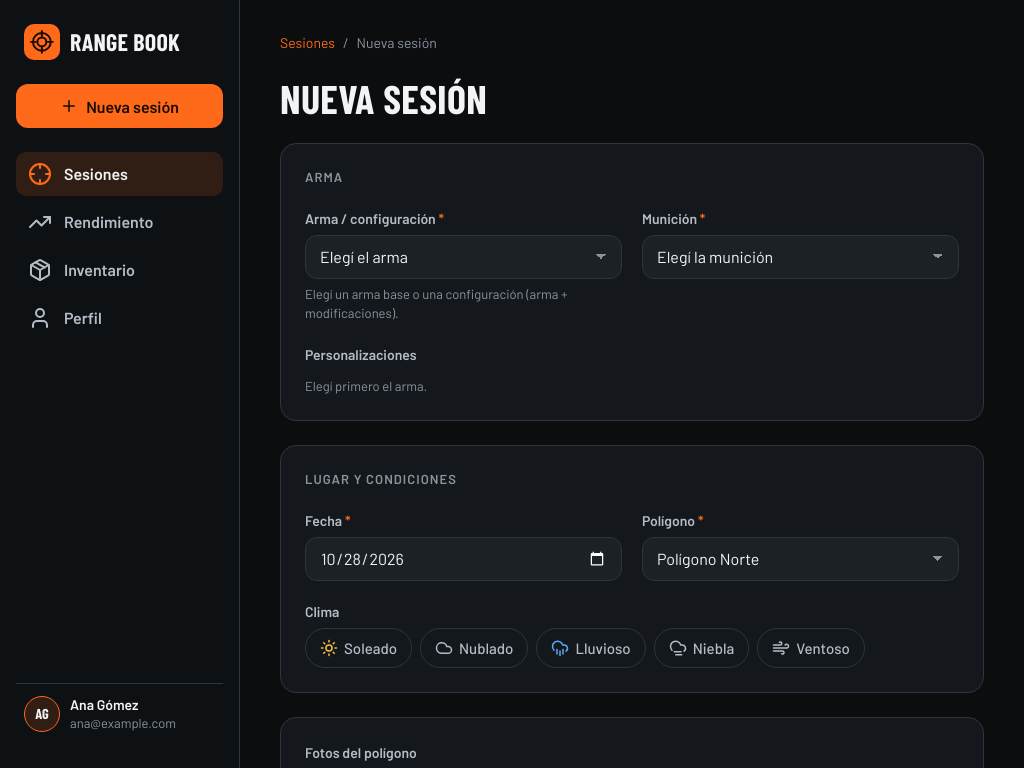
Scenario: SessionFormScreen · nueva › precarga hoy y el último polígono; la munición, la última usada con el arma
This screenshot has width=1024, height=768.
Expected: the date field labelled "Fecha *" holds "2026-10-28", x1=305 y1=536 x2=622 y2=580
Expected: the dropdown labelled "Polígono *" shows "Polígono Norte", x1=642 y1=536 x2=959 y2=580
Select "Ruger 10/22 · Stock" in the dropdown labelled "Arma / configuración *" at point(464, 256), box x1=305 y1=234 x2=622 y2=278
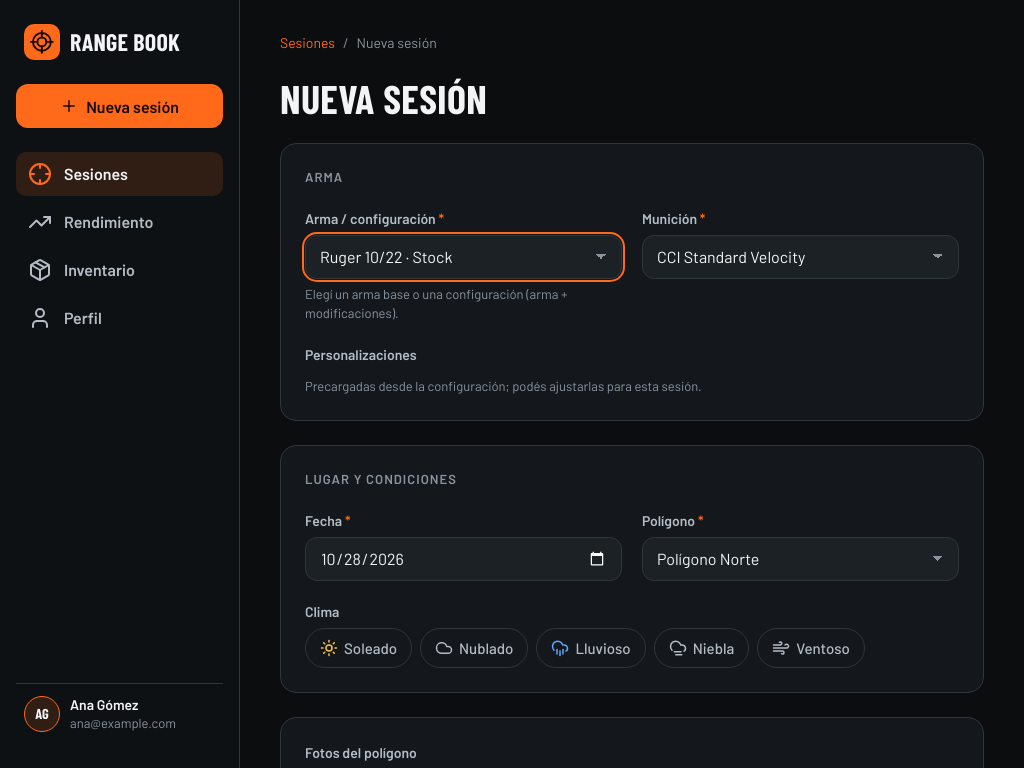
Result: the dropdown labelled "Munición *" shows "CCI Standard Velocity" at x1=642 y1=234 x2=959 y2=278
Select "Glock 17 Gen5 · Config. IPSC" in the dropdown labelled "Arma / configuración *" at point(464, 256), box x1=305 y1=234 x2=622 y2=278
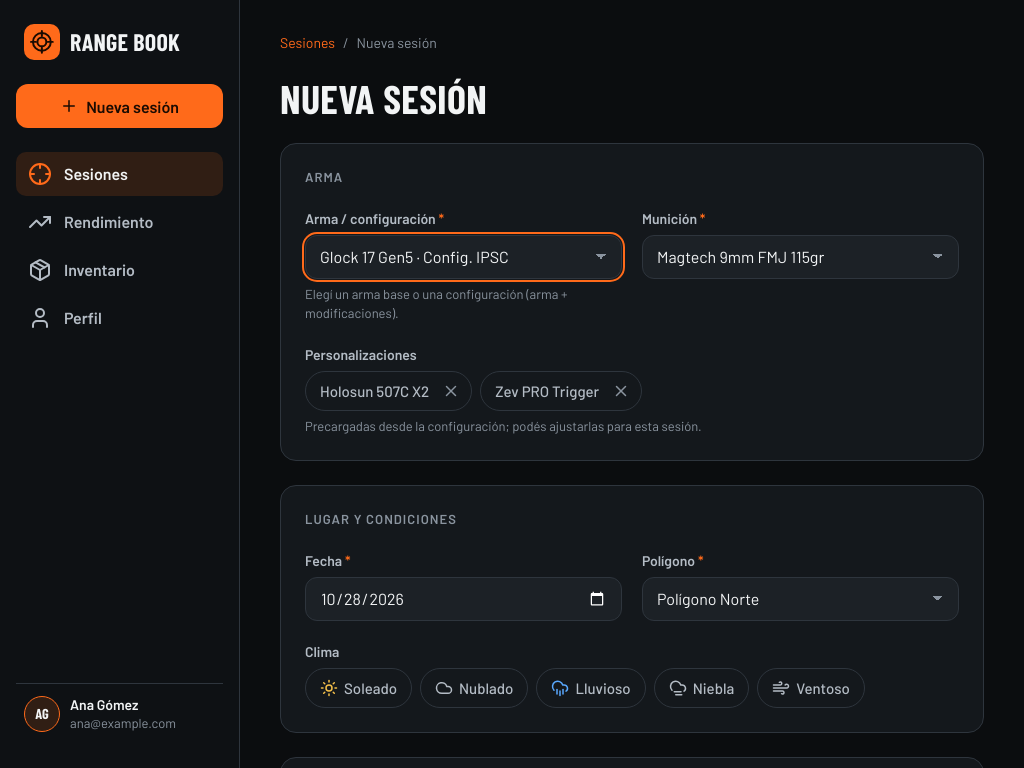
Result: the dropdown labelled "Munición *" shows "Magtech 9mm FMJ 115gr" at x1=642 y1=234 x2=959 y2=278
